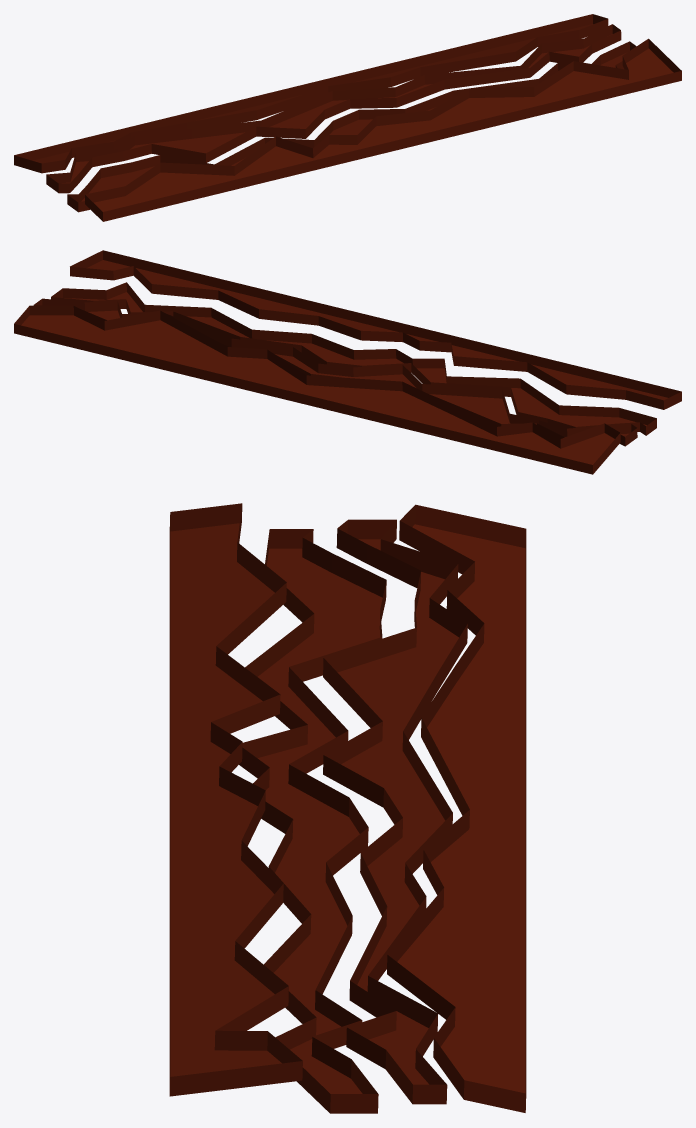
The model's file is BreeStreet ground.fbx.
The picture shows the model from 3 angles, top to bottom: view 1: azimuth 30°, elevation 25°; view 2: azimuth 150°, elevation 25°; view 3: azimuth 270°, elevation 25°; orthographic projection. The views are drawn at different scales.
Visible parts, largest first — view 1: T_Road_Basic 1.001; view 2: T_Road_Basic 1.001; view 3: T_Road_Basic 1.001.
Part boxes in pixels (left/top/right/bottom): T_Road_Basic 1.001: left=14, top=14, right=681, bottom=221; T_Road_Basic 1.001: left=14, top=250, right=681, bottom=474; T_Road_Basic 1.001: left=169, top=503, right=526, bottom=1113.
Bounding box in the file's own units: 478 × 20.82 × 128.
